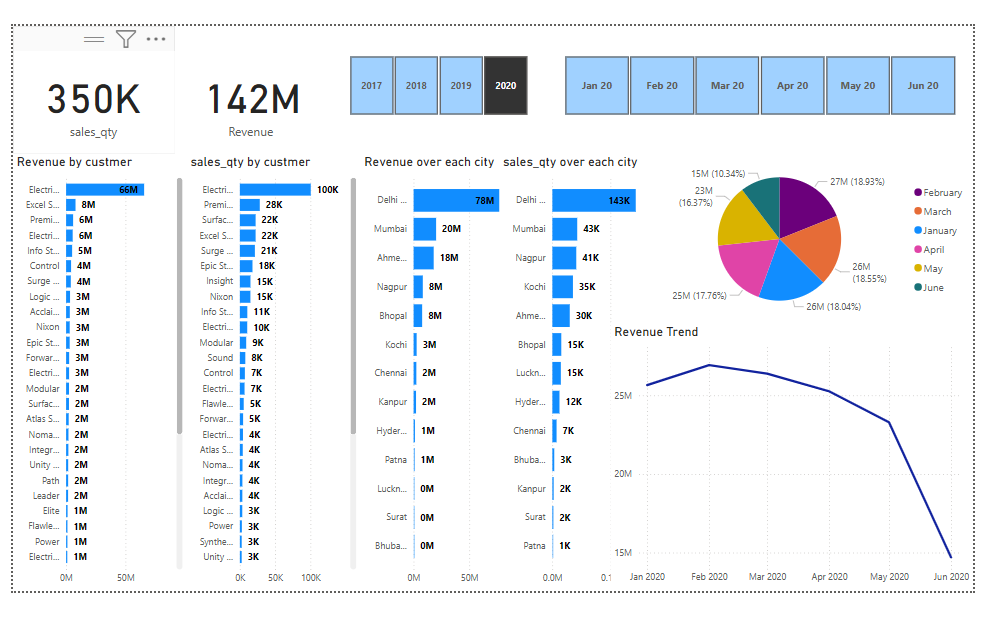

What the dashboard file says about the page in this screenshot:
{"tool":"powerbi","page":{"name":"Page 1","canvas":[1280,720],"ordinal":0},"visuals":[{"type":"card","fields":{"Values":["Base Measures.Revenue"]},"box":[0,0,215,136.2],"z":1},{"type":"card","fields":{"Values":["Base Measures.Revenue "]},"box":[215,0,208.8,136.2],"z":2},{"type":"barChart","title":"Revenue  by custmer","fields":{"Category":["customers.custmer_name"],"Y":["Base Measures.Revenue "]},"box":[0,136.2,231.2,583.8],"z":3},{"type":"barChart","title":"sales_qty by custmer","fields":{"Category":["customers.custmer_name"],"Y":["Base Measures.sales_qty"]},"box":[231.2,136.2,231.2,583.8],"z":4},{"type":"slicer","fields":{"Values":["date.year"]},"box":[423.3,0,286.7,91.7],"z":5},{"type":"slicer","fields":{"Values":["date.cy_date"]},"box":[710,0,570,91.7],"z":6},{"type":"barChart","title":"Revenue over each city","fields":{"Y":["Base Measures.Revenue "],"Category":["markets.markets_name"]},"box":[463.8,136.2,231.2,583.8],"z":7},{"type":"barChart","title":"sales_qty over each city","fields":{"Y":["Base Measures.sales_qty"],"Category":["markets.markets_name"]},"box":[648.8,136.2,231.2,583.8],"z":8},{"type":"lineChart","title":"Revenue Trend ","fields":{"Y":["Base Measures.Revenue "],"Category":["date.cy_date.Variation.Date Hierarchy.Year","date.cy_date.Variation.Date Hierarchy.Quarter","date.cy_date.Variation.Date Hierarchy.Month","date.cy_date.Variation.Date Hierarchy.Day"]},"box":[796.7,363.3,483.3,356.7],"z":9},{"type":"pieChart","fields":{"Y":["Base Measures.Revenue "],"Category":["date.month_name"]},"box":[838.3,136.7,441.7,228.3],"z":10}]}

Visuals, with their boxes on the page's 1280x720 design canvas (x1, y1, x2, y2). These are canvas units, not pixel positions in the 995x631 screenshot, which may show the page scaled, cropped or inside an application window:
card - Base Measures.Revenue: select_region(0, 0, 215, 136)
card - Base Measures.Revenue : select_region(215, 0, 424, 136)
"Revenue  by custmer" barChart: select_region(0, 136, 231, 720)
"sales_qty by custmer" barChart: select_region(231, 136, 462, 720)
slicer - date.year: select_region(423, 0, 710, 92)
slicer - date.cy_date: select_region(710, 0, 1280, 92)
"Revenue over each city" barChart: select_region(464, 136, 695, 720)
"sales_qty over each city" barChart: select_region(649, 136, 880, 720)
"Revenue Trend " lineChart: select_region(797, 363, 1280, 720)
pieChart - Base Measures.Revenue  x date.month_name: select_region(838, 137, 1280, 365)
